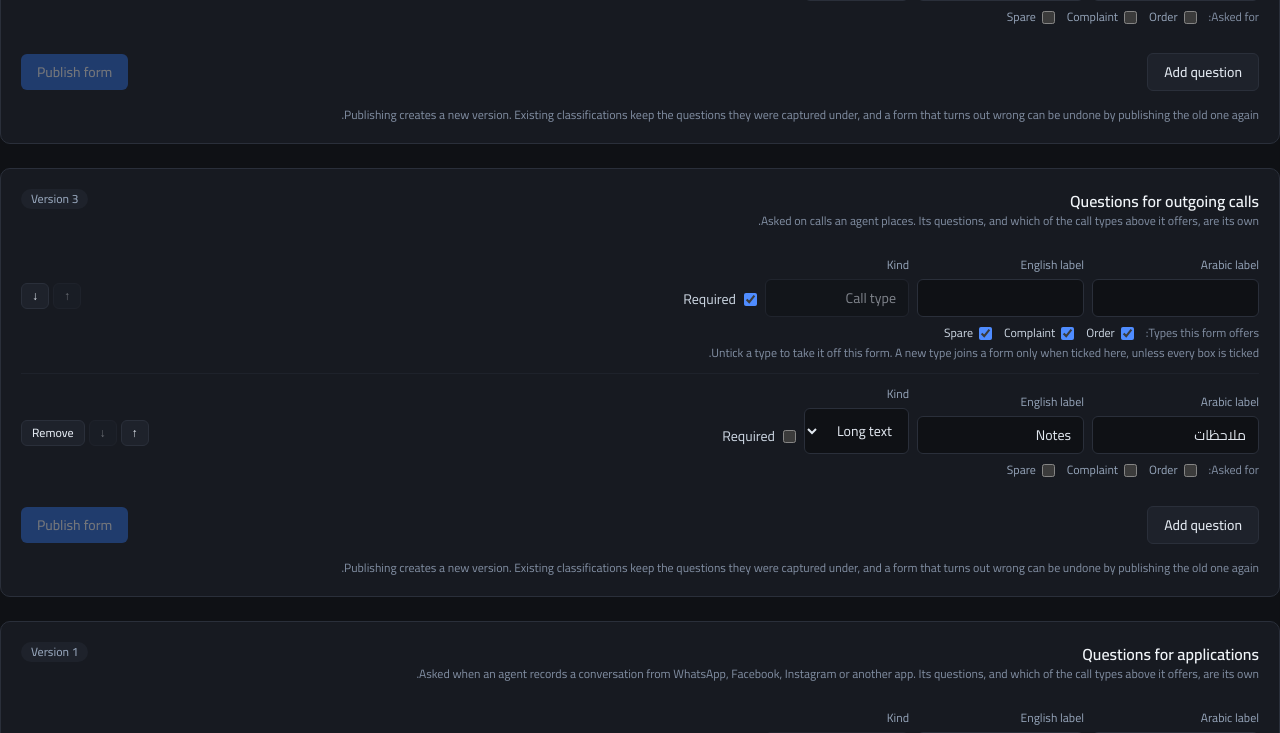
classification form editor › stores no list when every type is ticked, so a new type joins the form
(page scrolled)
Click the 2nd checkbox labelled "Order": (1127, 333) [1121,326,1134,340]
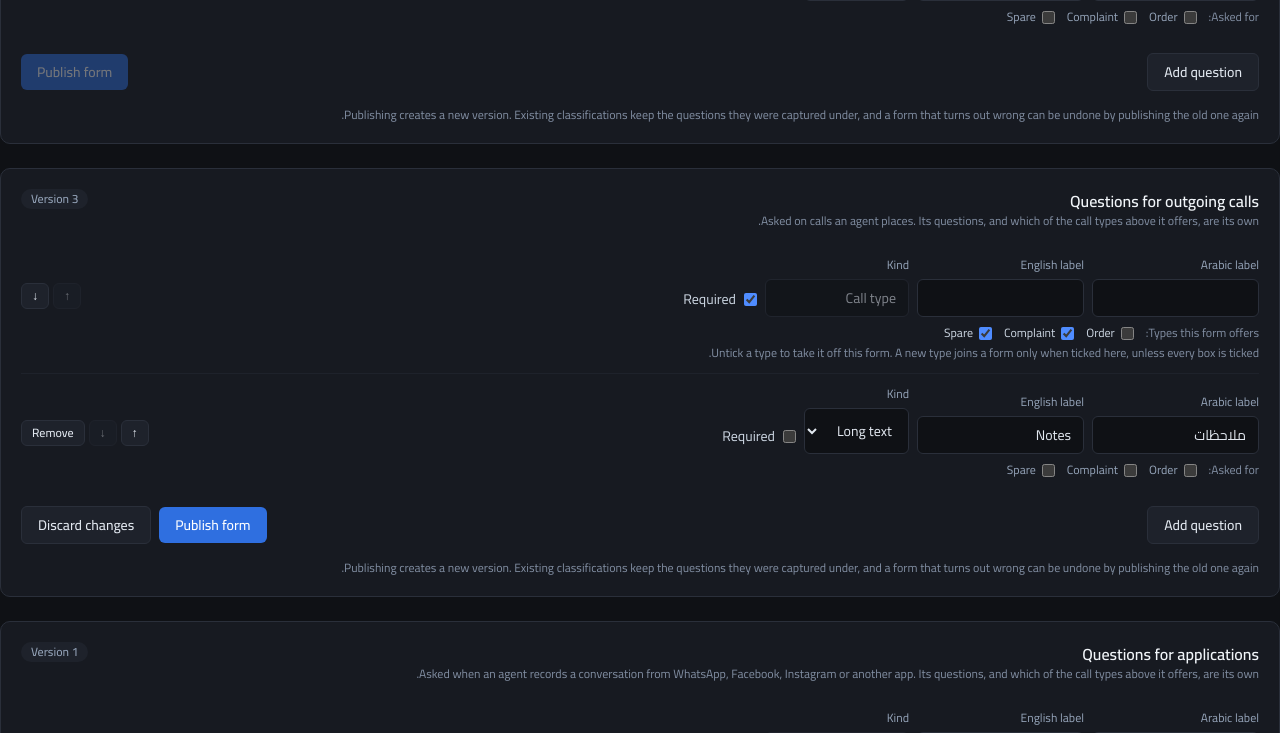
Click the 2nd checkbox labelled "Order": (1127, 333) [1121,326,1134,340]
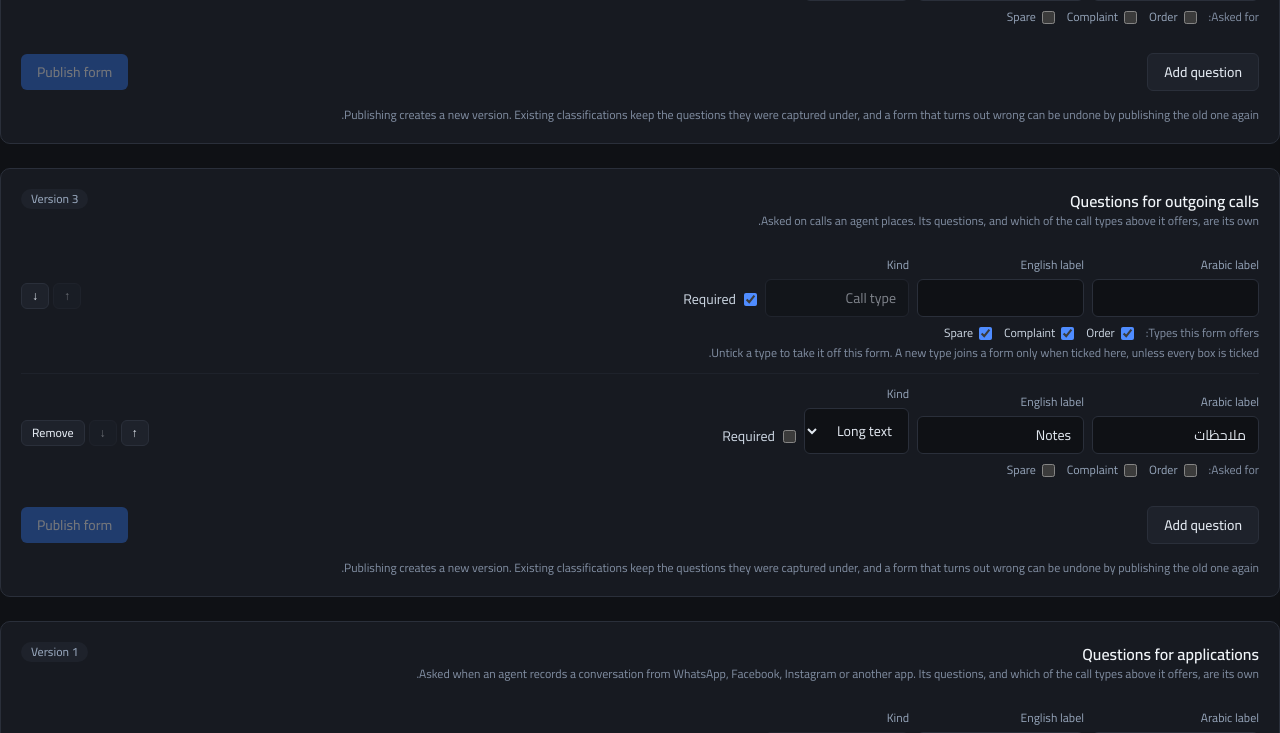
expect the button "Publish form" below "Version 3" is disabled: met, box [21,507,128,543]
